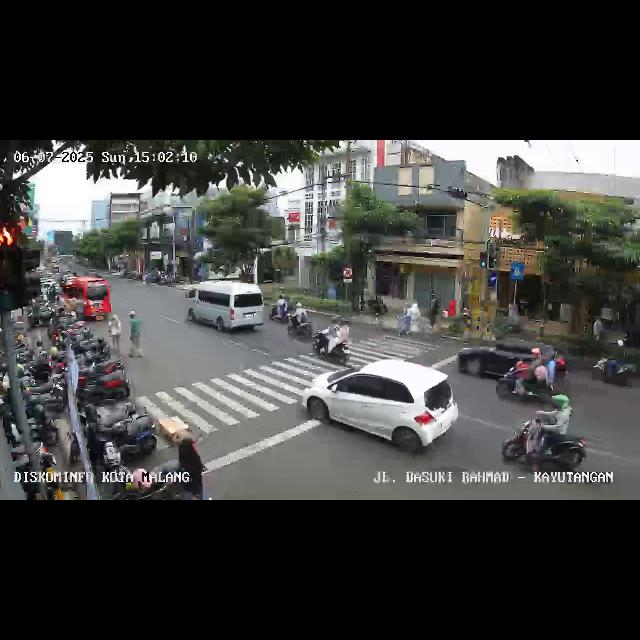car: (310, 358, 456, 459), (184, 282, 264, 338), (454, 341, 548, 387), (62, 276, 111, 322)
motorcycle: (506, 404, 590, 484), (502, 340, 570, 402), (590, 342, 640, 390), (312, 318, 352, 366), (288, 302, 312, 338), (270, 293, 290, 323)
person: (172, 433, 208, 499), (128, 310, 144, 360), (108, 309, 120, 346), (403, 300, 411, 340), (410, 304, 420, 334)
